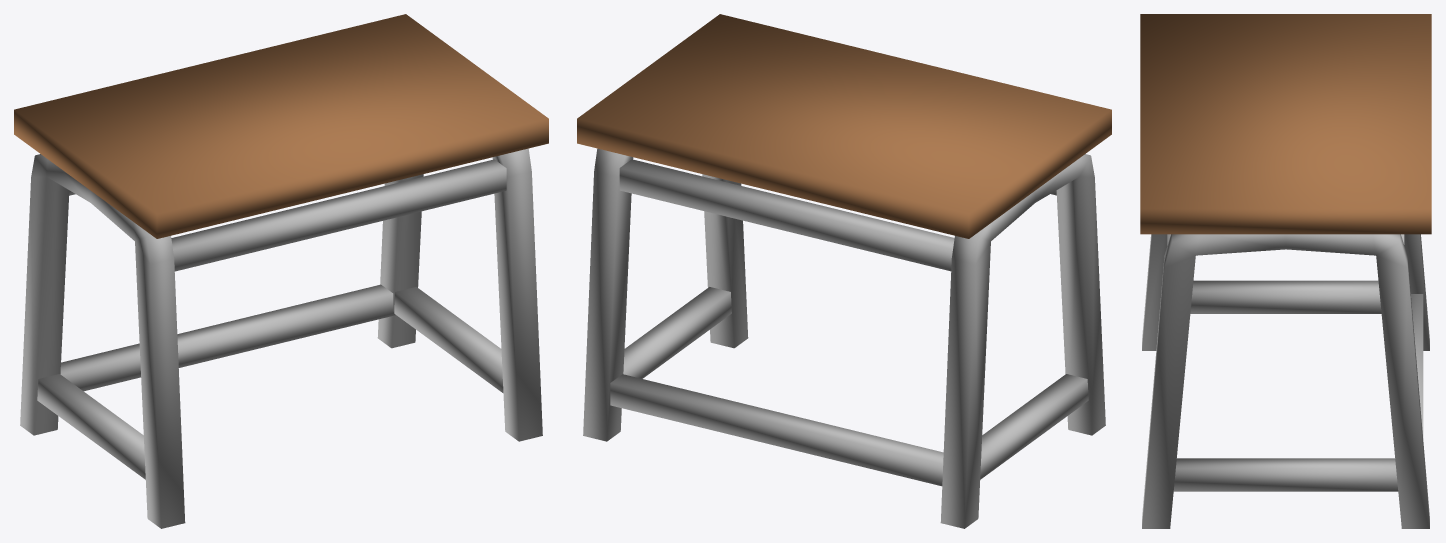
File: SchoolDesk.fbx
The picture shows the model from 3 angles, left to right: view 1: azimuth 30°, elevation 25°; view 2: azimuth 150°, elevation 25°; view 3: azimuth 270°, elevation 25°; orthographic projection.
Parts seen in each view (by area): view 1: 큐브.002; view 2: 큐브.002; view 3: 큐브.002.
Part boxes in pixels (left/top/right/bottom): 큐브.002: left=14, top=14, right=548, bottom=528; 큐브.002: left=577, top=14, right=1111, bottom=528; 큐브.002: left=1140, top=14, right=1431, bottom=528.
Size of the model in its own units: 198 by 153 by 125.
